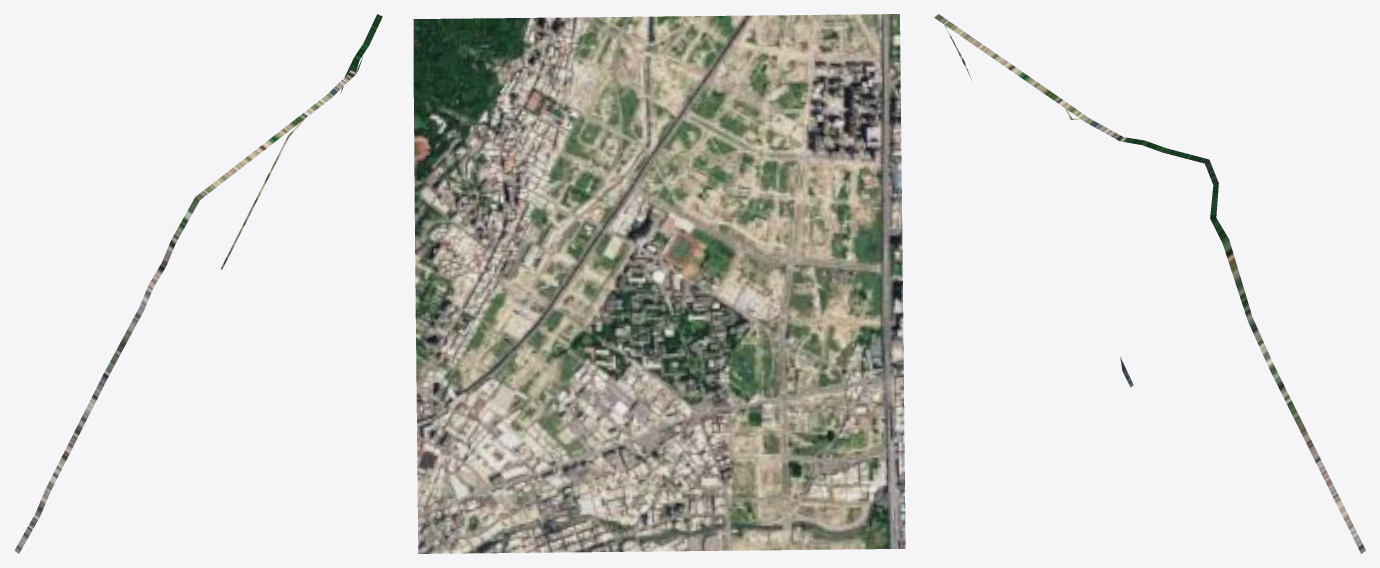
The picture shows the model from 3 angles, left to right: view 1: azimuth 30°, elevation 25°; view 2: azimuth 150°, elevation 25°; view 3: azimuth 270°, elevation 25°; orthographic projection. The views are drawn at different scales.
Size of the model in its own units: 2374 by 2291 by 2068.
1 material, 1 textured.
